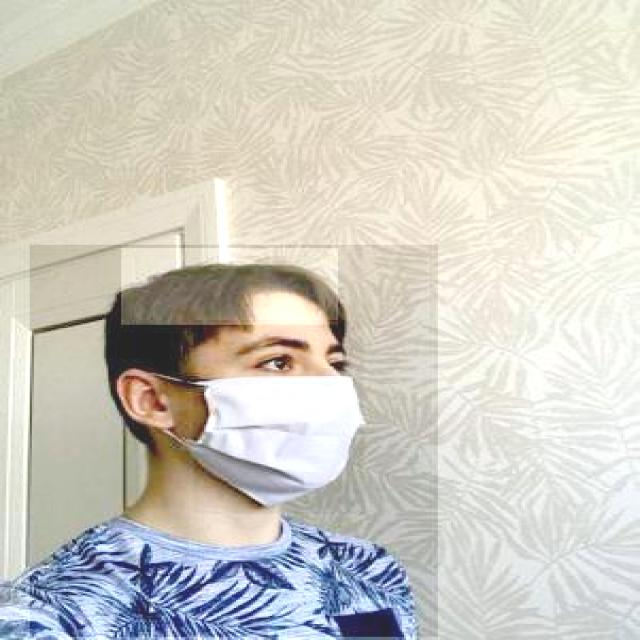face_mask: (194, 320, 364, 514)
head_nohelmet: (121, 248, 338, 325)
person: (30, 245, 440, 638)
